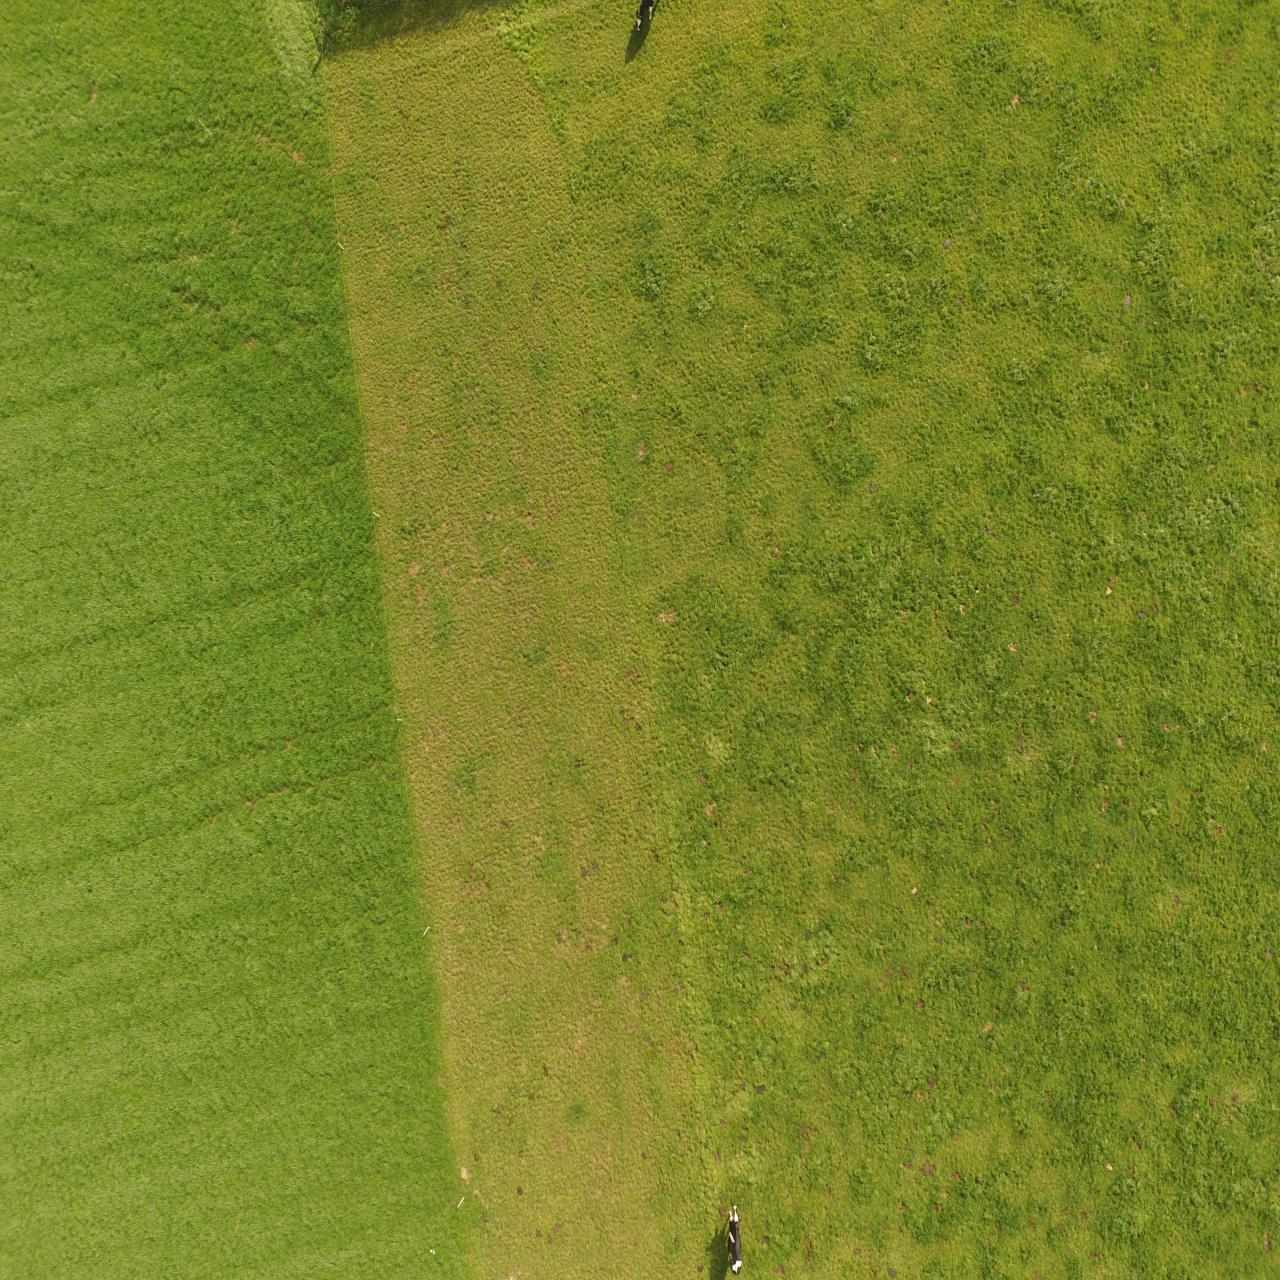cow: (727, 1204, 742, 1275)
